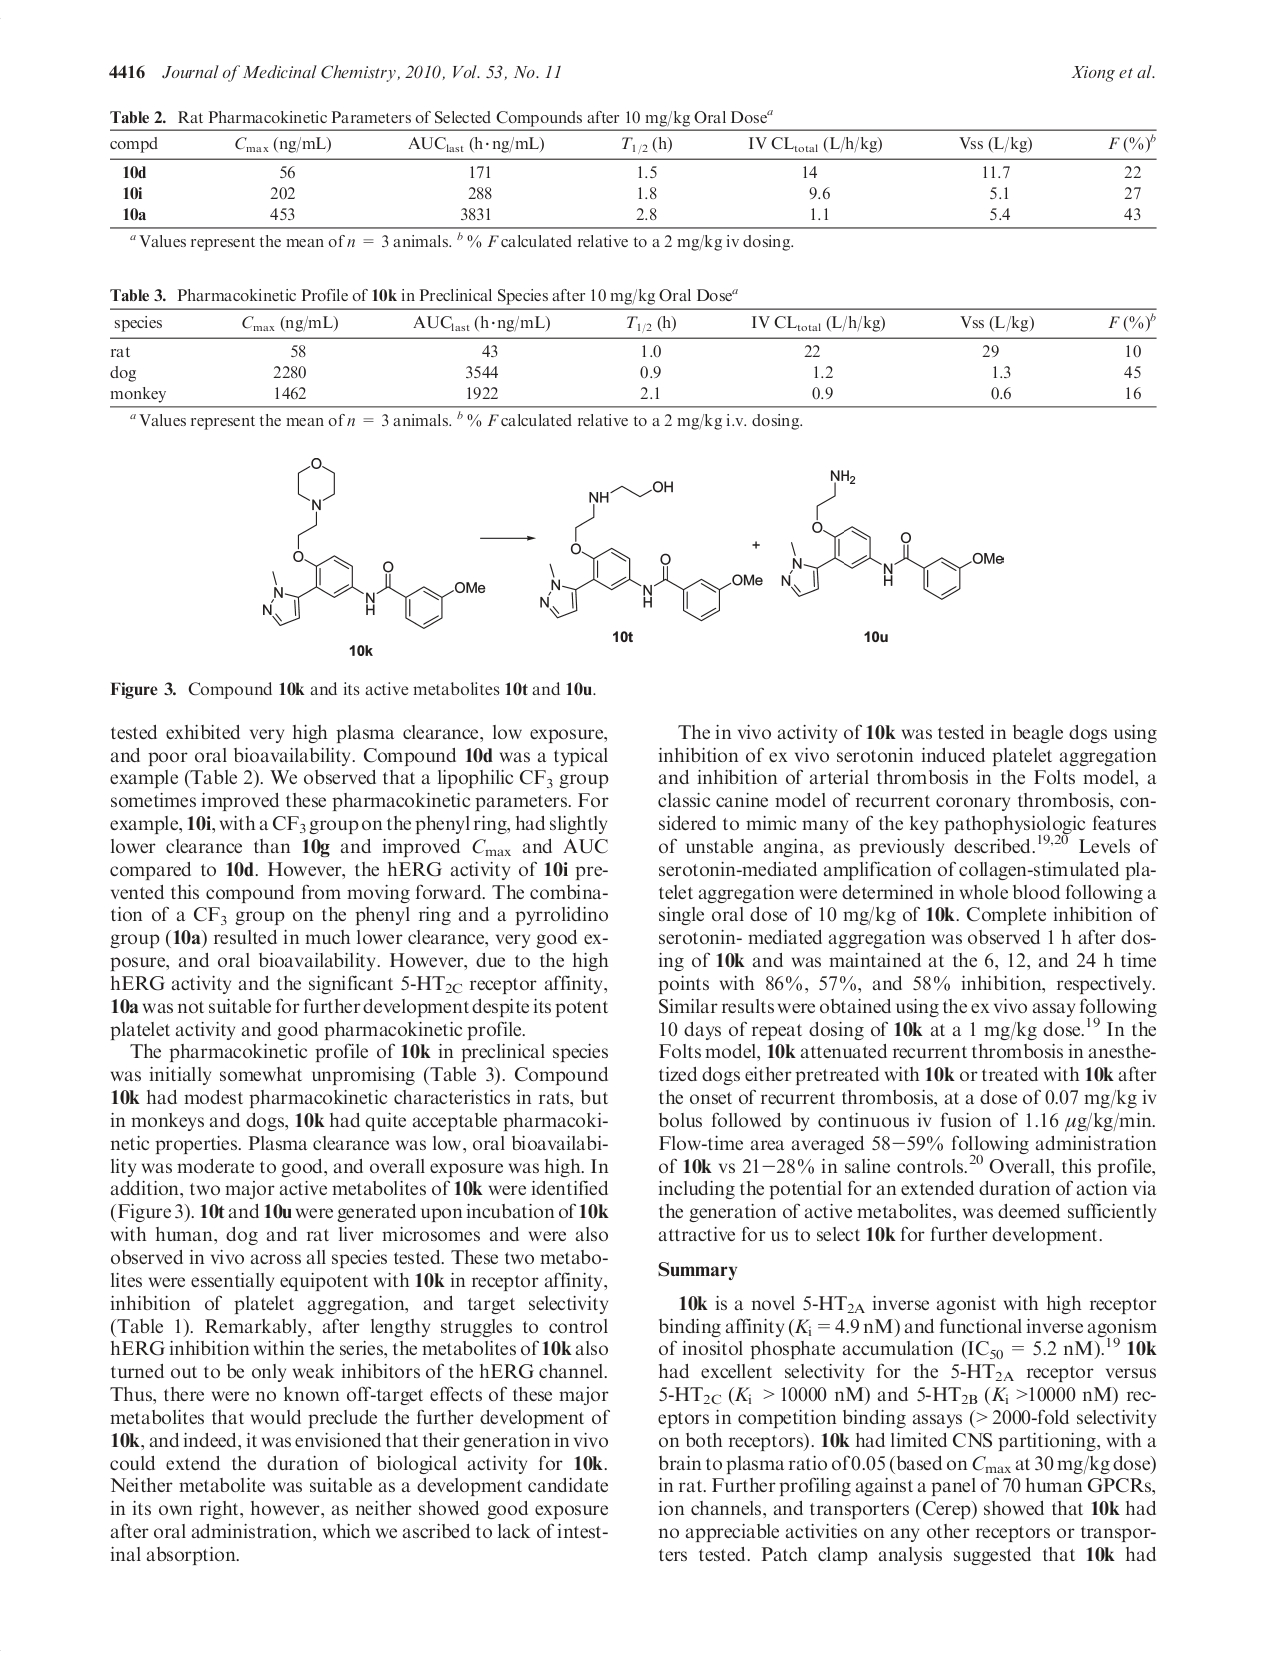exist_molecular: (253, 451, 492, 632), (532, 468, 765, 622), (774, 465, 1013, 605)
